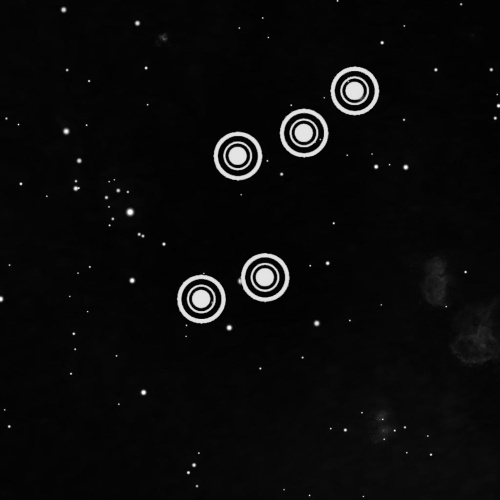lyra: (166, 43, 392, 339)
